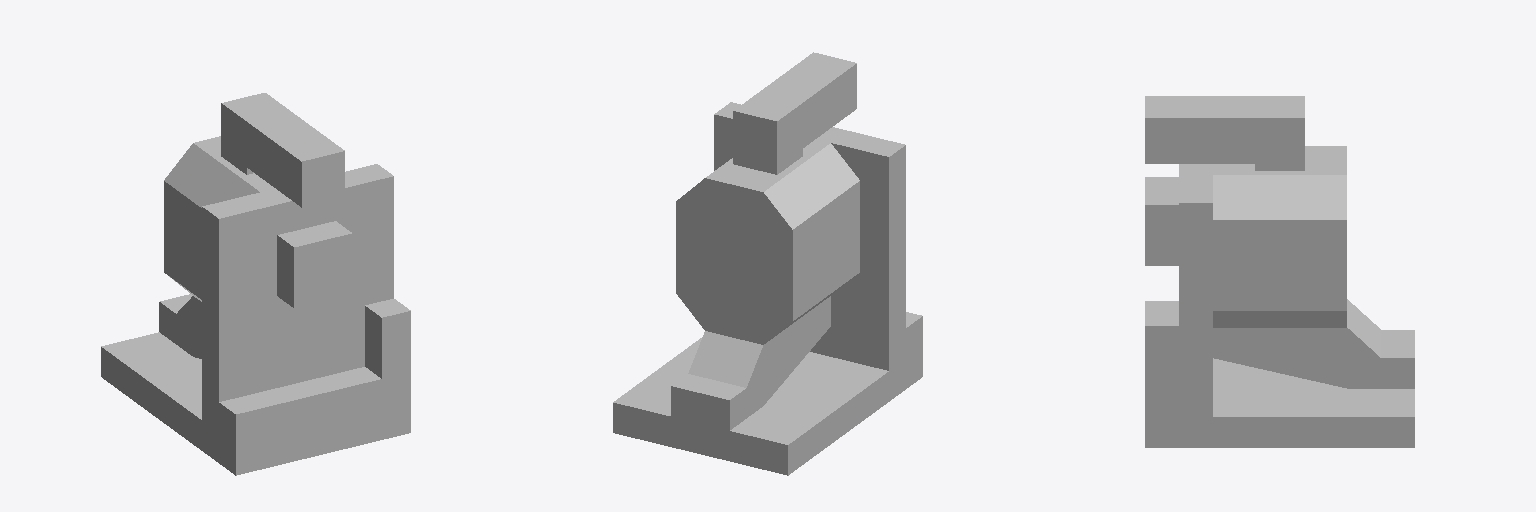
Rendered from grinder.obj.
3 renders of one model, left to right at view 1: azimuth 30°, elevation 25°; view 2: azimuth 150°, elevation 25°; view 3: azimuth 270°, elevation 25°, orthographic.
Visible parts, largest first — view 1: cube; view 2: cube; view 3: cube.
Boxes of the visible parts, box(x1,y1,x2,y2) form: cube: box(101, 93, 410, 475); cube: box(613, 52, 922, 475); cube: box(1145, 96, 1414, 447).
Bounding box in the file's own units: 3 × 4.88 × 4.